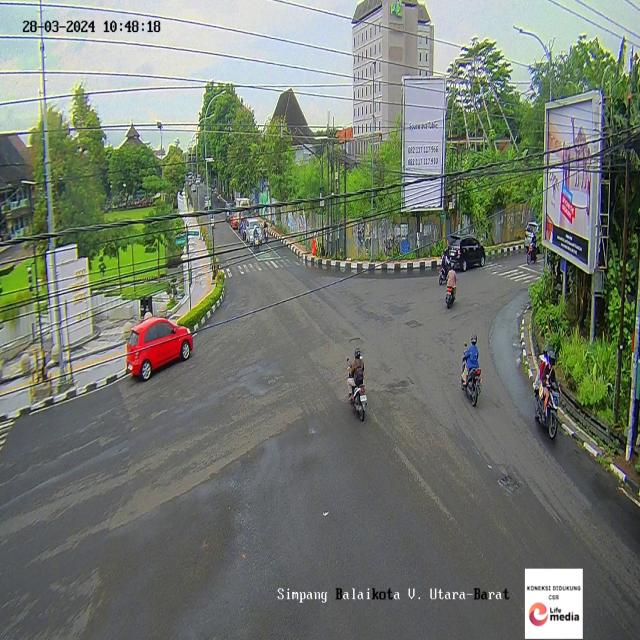car: (126, 315, 195, 381), (449, 236, 486, 271), (524, 220, 545, 251), (245, 218, 262, 245)
motorcycle: (532, 345, 564, 443), (462, 332, 484, 407), (349, 347, 368, 421), (446, 261, 457, 312), (438, 243, 450, 285), (528, 234, 537, 265), (253, 225, 260, 250), (264, 221, 270, 243), (241, 218, 246, 242)
